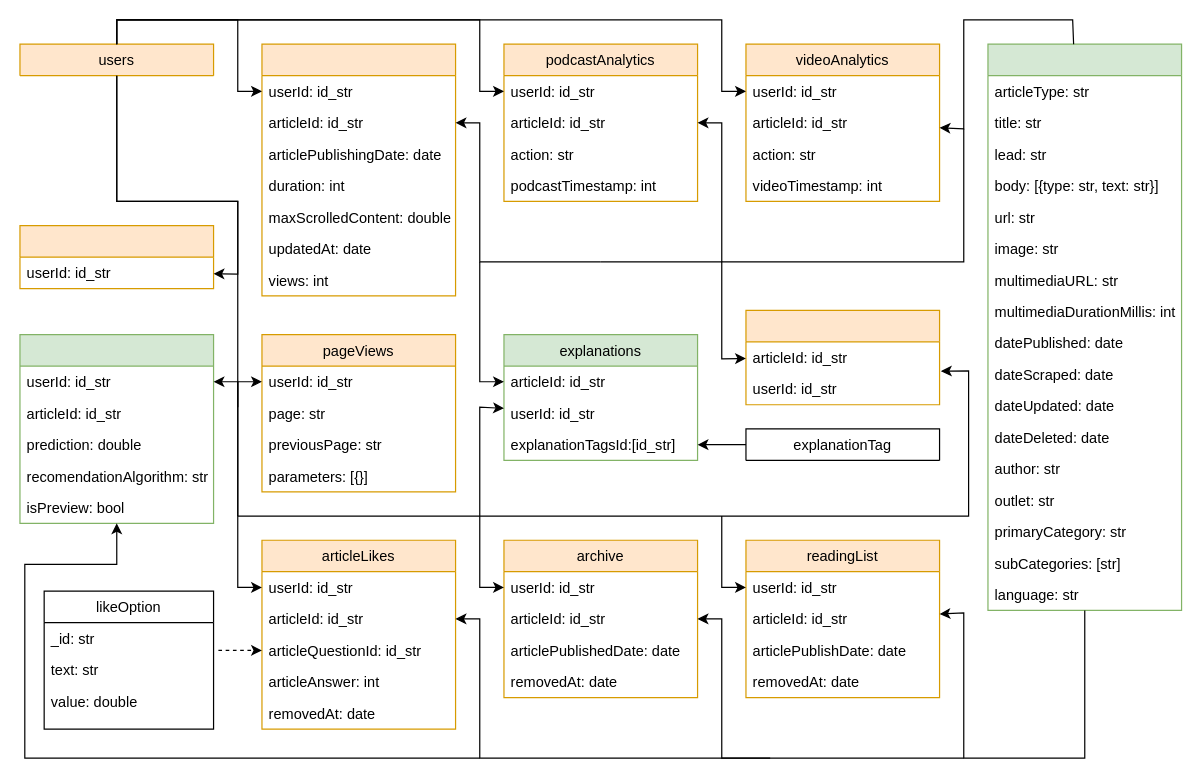
The diagram is 1202 pixels wide and 778 high, and some of its shapes have lost their labels. The box of each missing label's shape, as (x1, y1, x2, y2) in pixels:
explanationViews: (745, 309, 940, 405)
itemViews: (261, 43, 456, 296)
newsArticles: (987, 43, 1182, 610)
recommendationLists: (19, 333, 214, 523)
signins: (19, 224, 214, 289)
